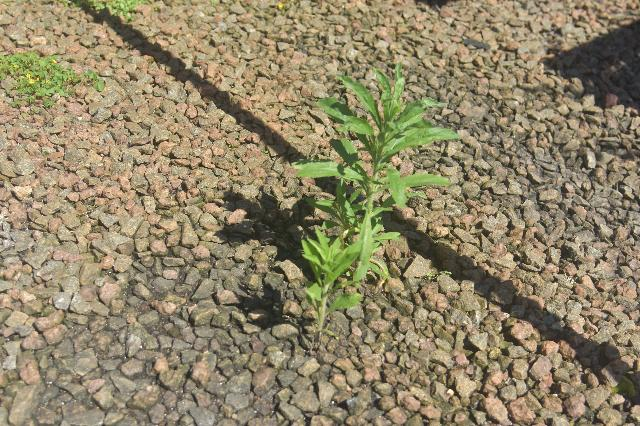MalezaMontesDelPlata: (297, 60, 460, 282), (294, 221, 367, 347), (0, 48, 108, 113), (57, 0, 150, 23)
